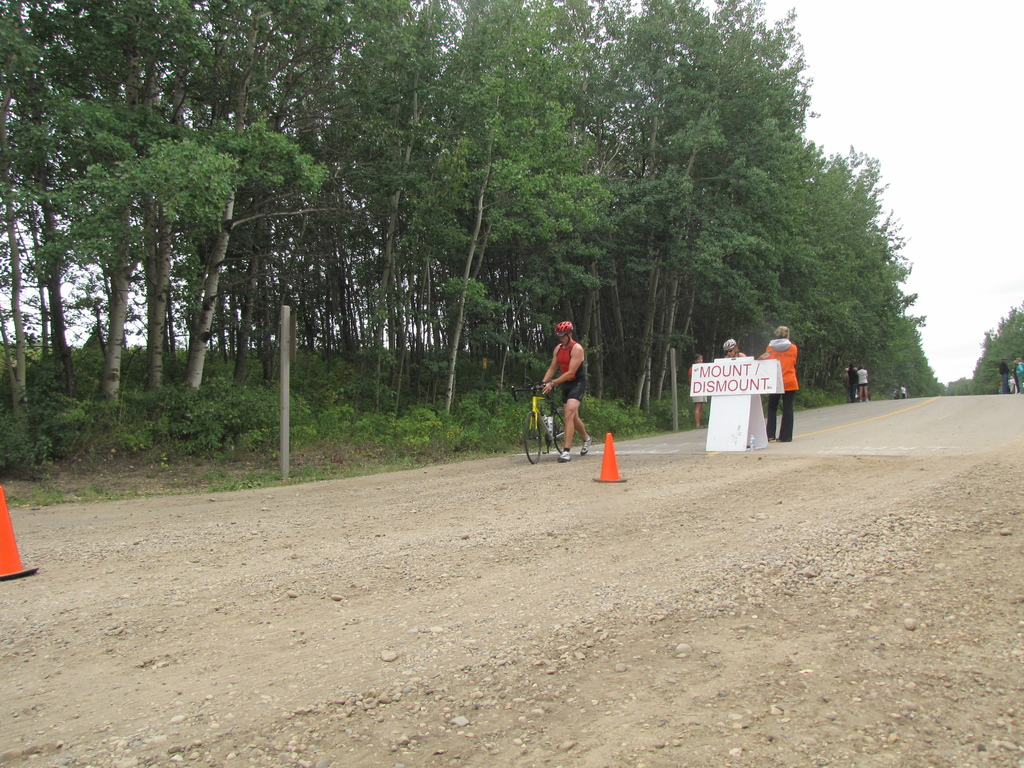Tree: (0, 0, 939, 428), (965, 298, 1022, 394)
